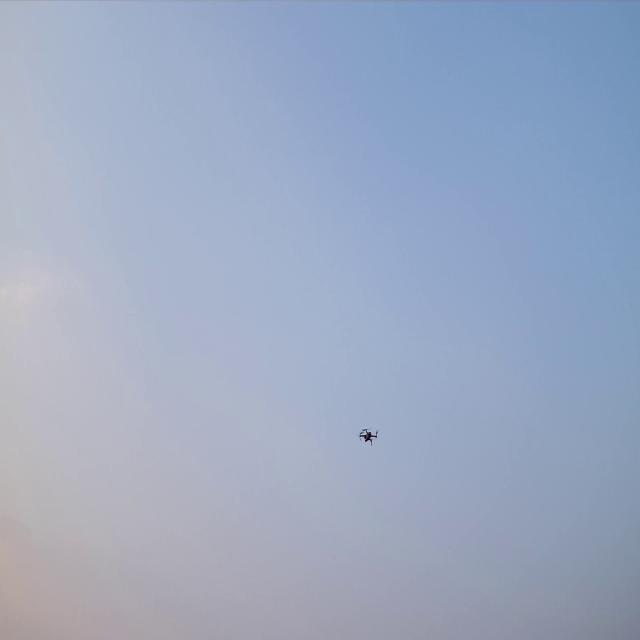UAV: (356, 425, 379, 446)
